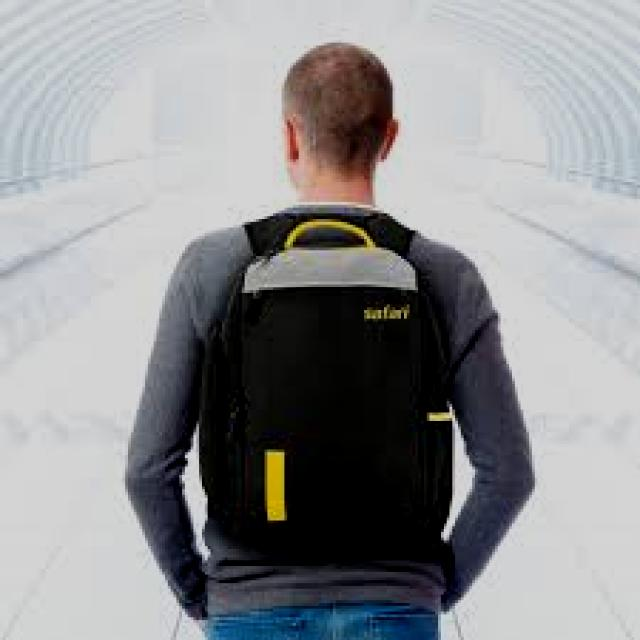backpack: (197, 206, 456, 562)
